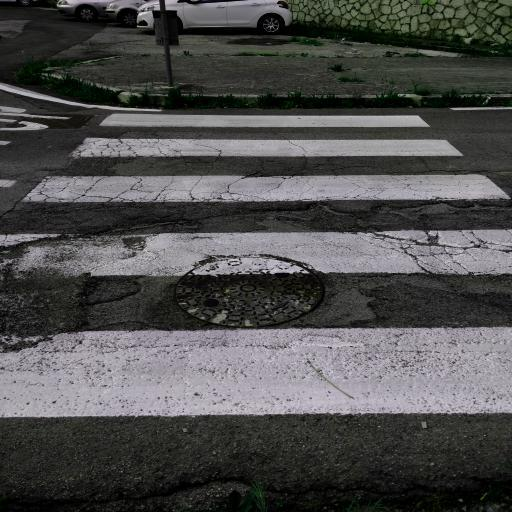crosswalk: (2, 225, 512, 427), (19, 134, 512, 209)
